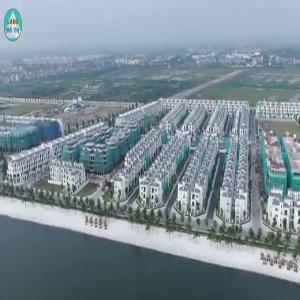drone: (74, 153, 143, 222)
